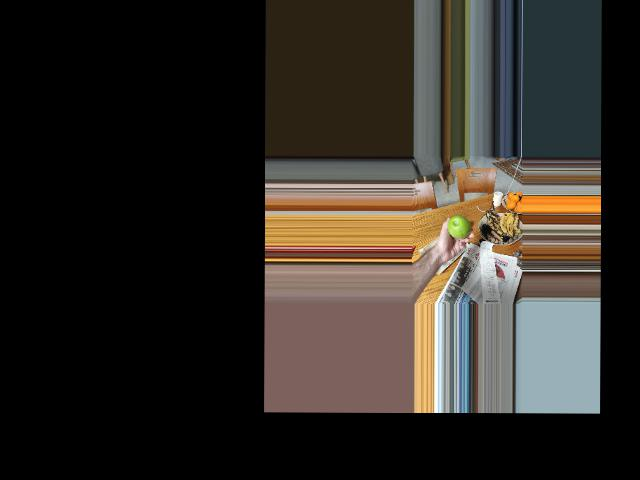apple: (447, 214, 471, 240)
